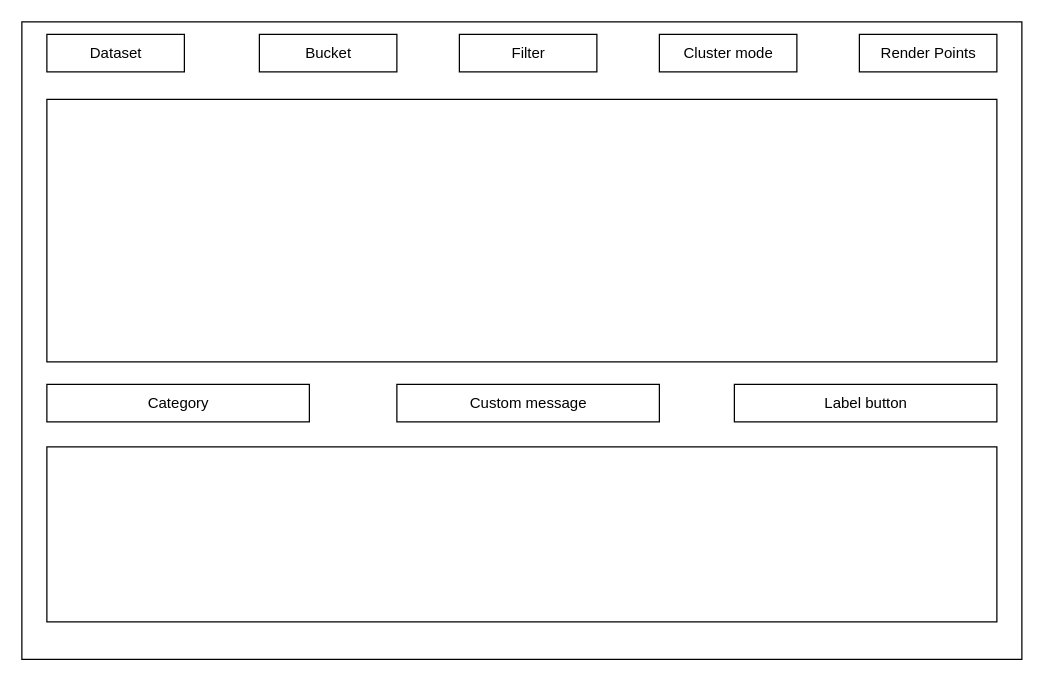
Image size: 1044x681. Some labels were removed from this diagram. The centre of each missing label's shape, as x and y in pixels:
Scatter plot: (521,230)
SELECTED POINT(S) INFO: (521,534)
